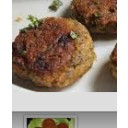cutlet: (17, 17, 94, 87), (73, 1, 119, 33)
